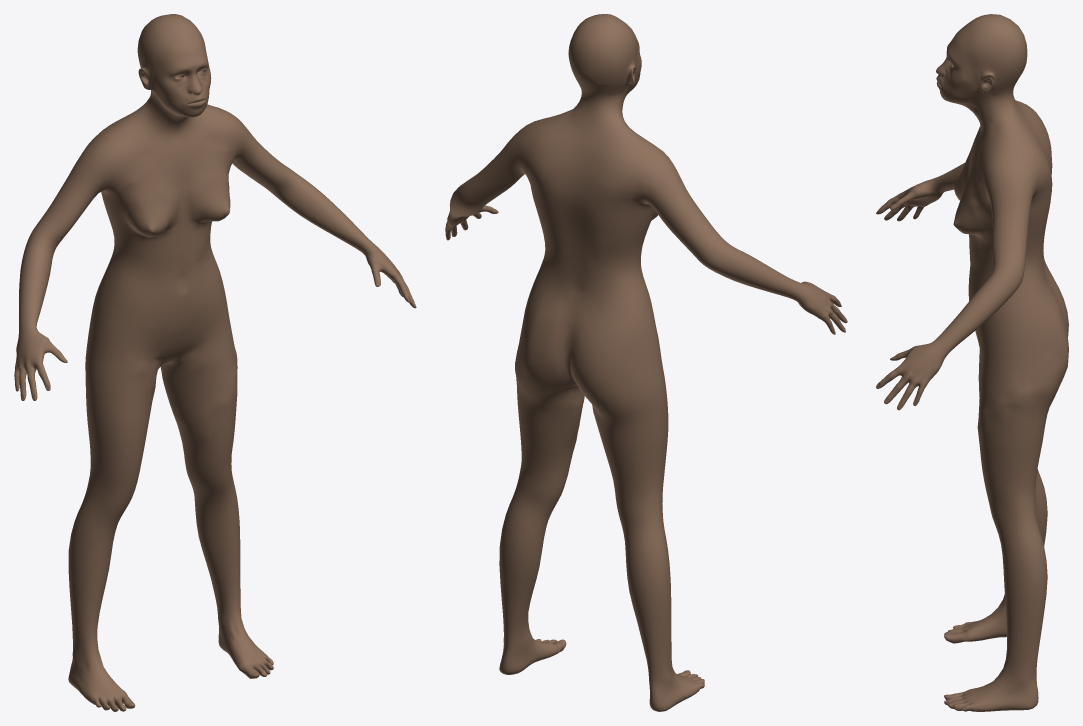
File: testihahmo1.fbx
3 renders of one model, left to right at view 1: azimuth 30°, elevation 25°; view 2: azimuth 150°, elevation 25°; view 3: azimuth 270°, elevation 25°, orthographic.
Parts seen in each view (by area): view 1: lowpolyasukas1testi:Body; view 2: lowpolyasukas1testi:Body; view 3: lowpolyasukas1testi:Body.
Part boxes in pixels (<box>): lowpolyasukas1testi:Body: <box>14,14,416,711</box>; lowpolyasukas1testi:Body: <box>445,14,847,711</box>; lowpolyasukas1testi:Body: <box>876,14,1068,711</box>.
Bounding box in the file's own units: 1021 × 1645 × 439.
